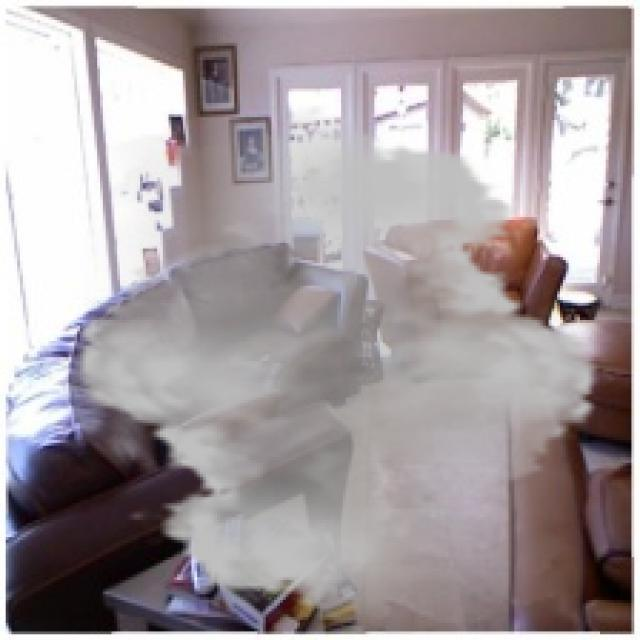Smoke: (54, 106, 620, 634)
